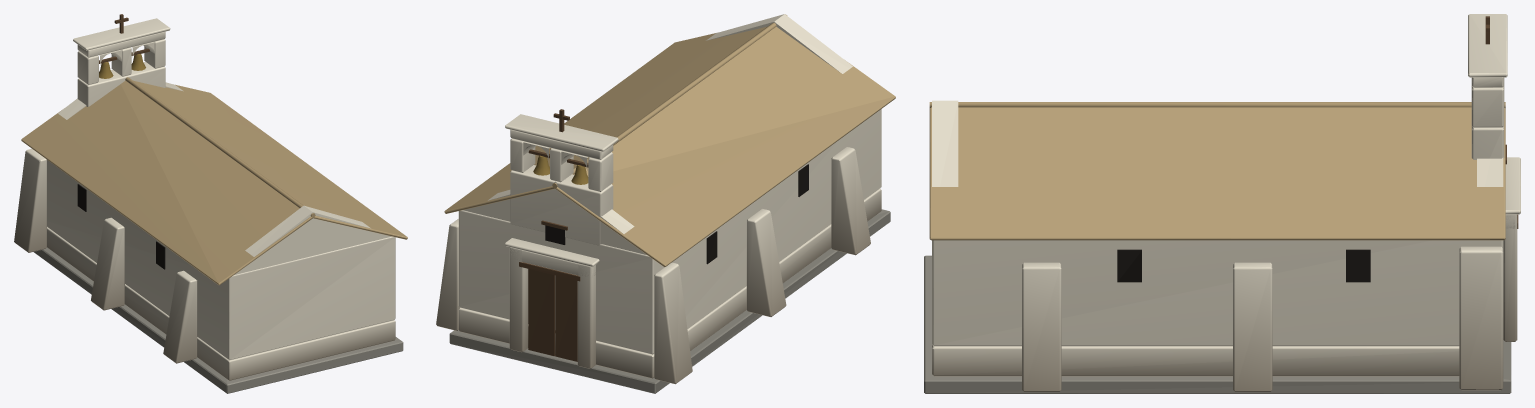
File: hx_capilla.glb
3 views of the same model, side by side, from view 1: azimuth 30°, elevation 25°; view 2: azimuth 150°, elevation 25°; view 3: azimuth 270°, elevation 25° (orthographic). The views are drawn at different scales.
Visible parts, largest first — view 1: hx_capilla_geometry; view 2: hx_capilla_geometry; view 3: hx_capilla_geometry.
Boxes of the visible parts, left/top/right/bottom form: hx_capilla_geometry: left=14, top=14, right=407, bottom=393; hx_capilla_geometry: left=436, top=14, right=895, bottom=393; hx_capilla_geometry: left=924, top=14, right=1520, bottom=393.
Bounding box in the file's own units: 8.08 × 7.9 × 13.58.
